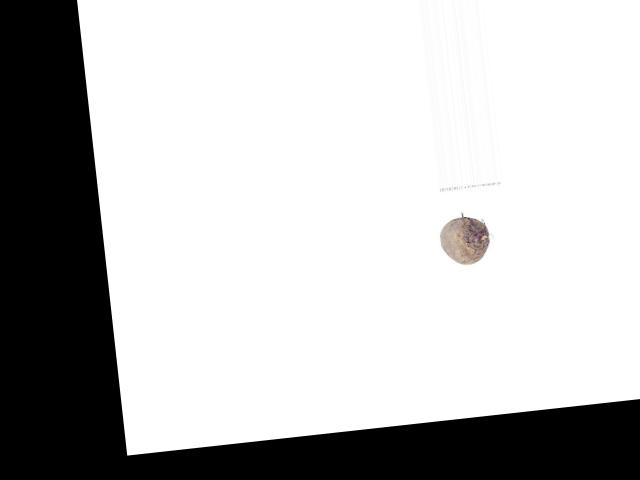beet: (436, 215, 490, 266)
